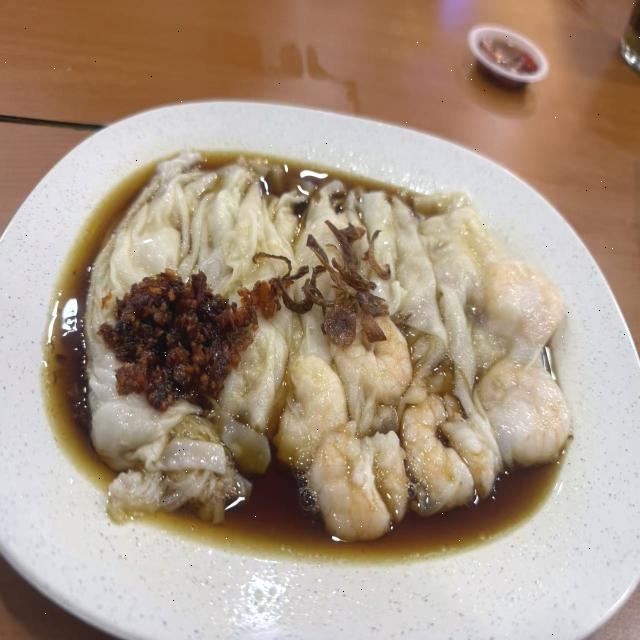Chee Cheong Fun: (41, 118, 582, 577)
